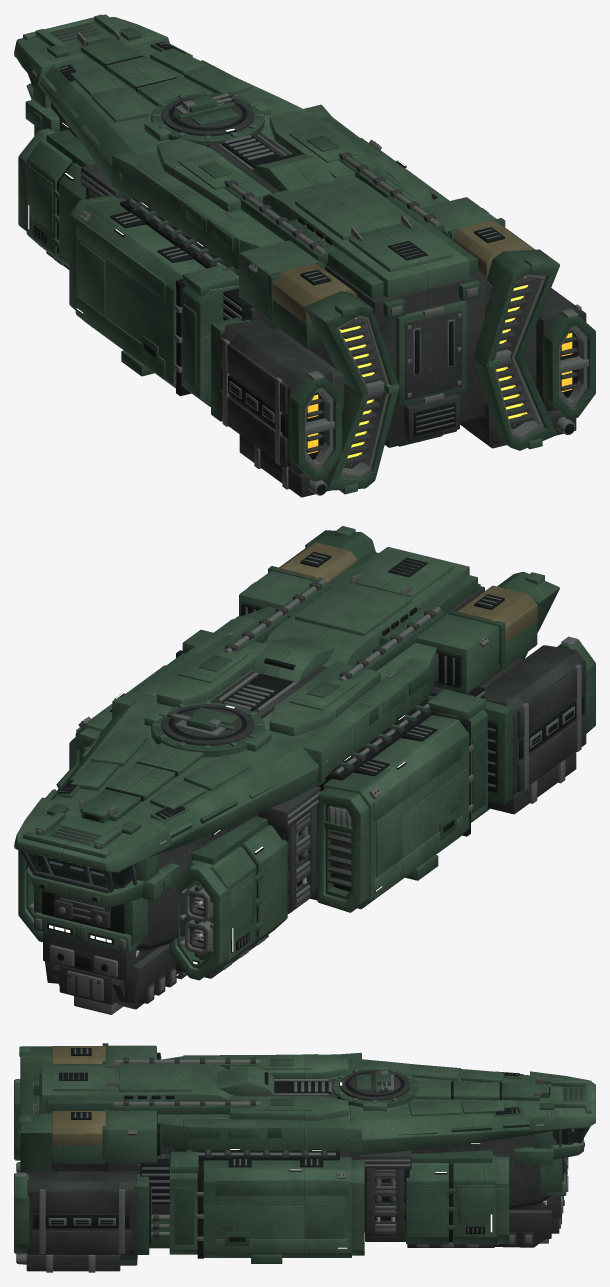
File: codex_frigate.glb
3 renders of one model, top to bottom at view 1: azimuth 30°, elevation 25°; view 2: azimuth 150°, elevation 25°; view 3: azimuth 270°, elevation 25°, orthographic. The views are drawn at different scales.
Parts seen in each view (by area): view 1: SidePod_MainArmorSlab_Port, Dorsal_ForwardGlacisHull, Stern_ChevronArmorFrame_Stbd, Stern_ChevronArmorFrame_Port, Dorsal_MidDeckPlatform, Dorsal_AftReactorSpine, Stern_CentralBulkheadMain, OutNacelle_MainBody_Port, Stern_CenterDoorInnerPlate, Dorsal_AftSpineCapMid, OutNacelle_RearHexFrame_Port, OutNacelle_RearHexFrame_Stbd (+60 smaller); view 2: Dorsal_ForwardGlacisHull, SidePod_MainArmorSlab_Port, Dorsal_MidDeckPlatform, Dorsal_AftReactorSpine, OutNacelle_MainBody_Port, Bridge_UpperArmorBrow, Dorsal_AftSpineCapMid, Stern_UpperCowlFwd_Port, SidePod_FrontIntakeFrame_Port, Chassis_MainCoreSpine, FwdPod_BodyRear_Port, Dorsal_MidShoulderArmor_Port (+63 smaller); view 3: SidePod_MainArmorSlab_Stbd, Dorsal_ForwardGlacisHull, Dorsal_MidDeckPlatform, OutNacelle_MainBody_Stbd, FwdPod_BodyRear_Stbd, Chassis_MainCoreSpine, Dorsal_AftReactorSpine, Stern_UpperCowlFwd_Stbd, SidePod_OuterUpperPlate_Stbd, Dorsal_AftSpineCapMid, FwdPod_BodyFront_Stbd, OutNacelle_SideBandUpper_Stbd (+66 smaller).
Boxes of the visible parts, x1,y1,x2,y2 form: SidePod_MainArmorSlab_Port: (75, 198, 205, 388); Dorsal_ForwardGlacisHull: (37, 28, 311, 196); Stern_ChevronArmorFrame_Stbd: (473, 249, 559, 450); Stern_ChevronArmorFrame_Port: (305, 291, 399, 490); Dorsal_MidDeckPlatform: (112, 104, 434, 270); Dorsal_AftReactorSpine: (263, 174, 469, 297); Stern_CentralBulkheadMain: (325, 264, 484, 440); OutNacelle_MainBody_Port: (218, 319, 332, 474); Stern_CenterDoorInnerPlate: (405, 309, 461, 399); Dorsal_AftSpineCapMid: (295, 184, 411, 240); OutNacelle_RearHexFrame_Port: (288, 371, 341, 481); OutNacelle_RearHexFrame_Stbd: (542, 309, 595, 419); Dorsal_ForwardGlacisHull: (37, 698, 328, 858); SidePod_MainArmorSlab_Port: (323, 715, 469, 909); Dorsal_MidDeckPlatform: (112, 607, 436, 782); Dorsal_AftReactorSpine: (264, 547, 469, 667); OutNacelle_MainBody_Port: (484, 645, 585, 793); Bridge_UpperArmorBrow: (14, 797, 172, 871); Dorsal_AftSpineCapMid: (295, 581, 411, 636); Stern_UpperCowlFwd_Port: (416, 614, 500, 693); SidePod_FrontIntakeFrame_Port: (317, 788, 368, 912); Chassis_MainCoreSpine: (129, 686, 435, 951); FwdPod_BodyRear_Port: (243, 825, 287, 950); Dorsal_MidShoulderArmor_Port: (269, 661, 380, 736); SidePod_MainArmorSlab_Stbd: (203, 1157, 351, 1257); Dorsal_ForwardGlacisHull: (350, 1058, 562, 1156); Dorsal_MidDeckPlatform: (157, 1052, 361, 1152); OutNacelle_MainBody_Stbd: (27, 1171, 136, 1254); FwdPod_BodyRear_Stbd: (406, 1163, 448, 1244); Chassis_MainCoreSpine: (109, 1131, 557, 1209); Dorsal_AftReactorSpine: (41, 1064, 234, 1108); Stern_UpperCowlFwd_Stbd: (105, 1110, 156, 1162); SidePod_OuterUpperPlate_Stbd: (215, 1180, 348, 1195); Dorsal_AftSpineCapMid: (119, 1063, 191, 1091); FwdPod_BodyFront_Stbd: (453, 1155, 496, 1244); OutNacelle_SideBandUpper_Stbd: (31, 1190, 131, 1212).
Bounding box in the file's own units: 9.96 × 6.92 × 22.
Materials: 15 (5 with a texture image).
